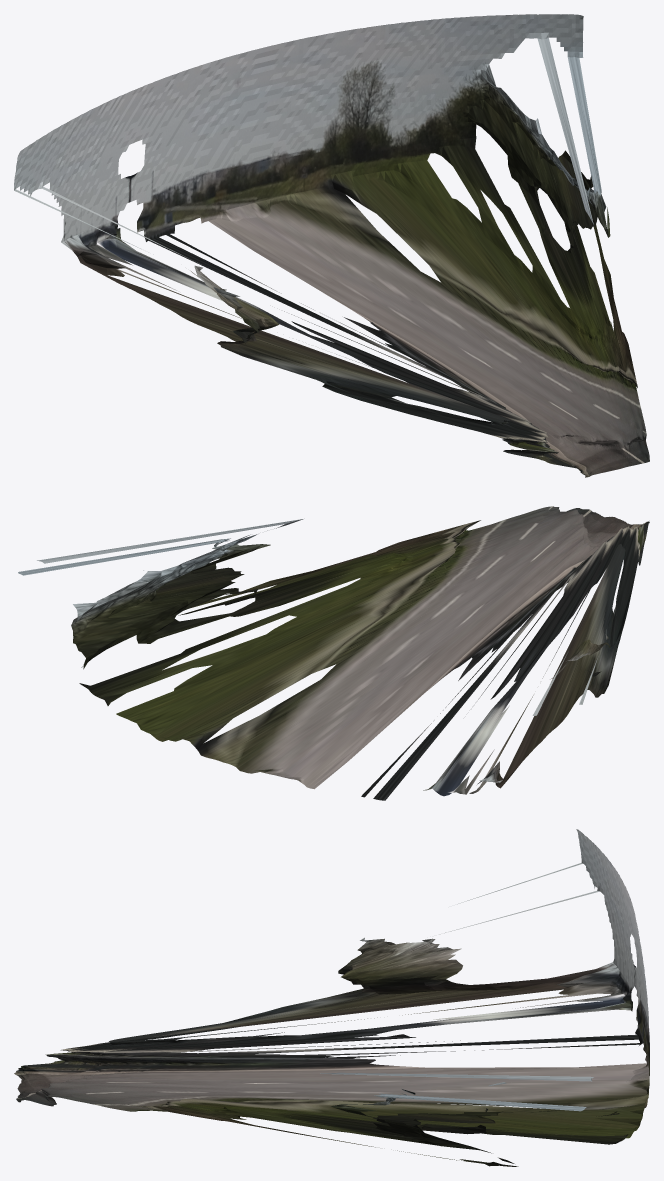
3 renders of one model, top to bottom at view 1: azimuth 30°, elevation 25°; view 2: azimuth 150°, elevation 25°; view 3: azimuth 270°, elevation 25°, orthographic. The views are drawn at different scales.
Visible parts, largest first — view 1: defaultobject; view 2: defaultobject; view 3: defaultobject.
Boxes of the visible parts, x1,y1,x2,y2 form: defaultobject: (14,14,649,477); defaultobject: (18,506,649,800); defaultobject: (14,829,649,1166).
Size of the model in its own units: 40.84 by 11.56 by 44.69.
1 material, 1 textured.
